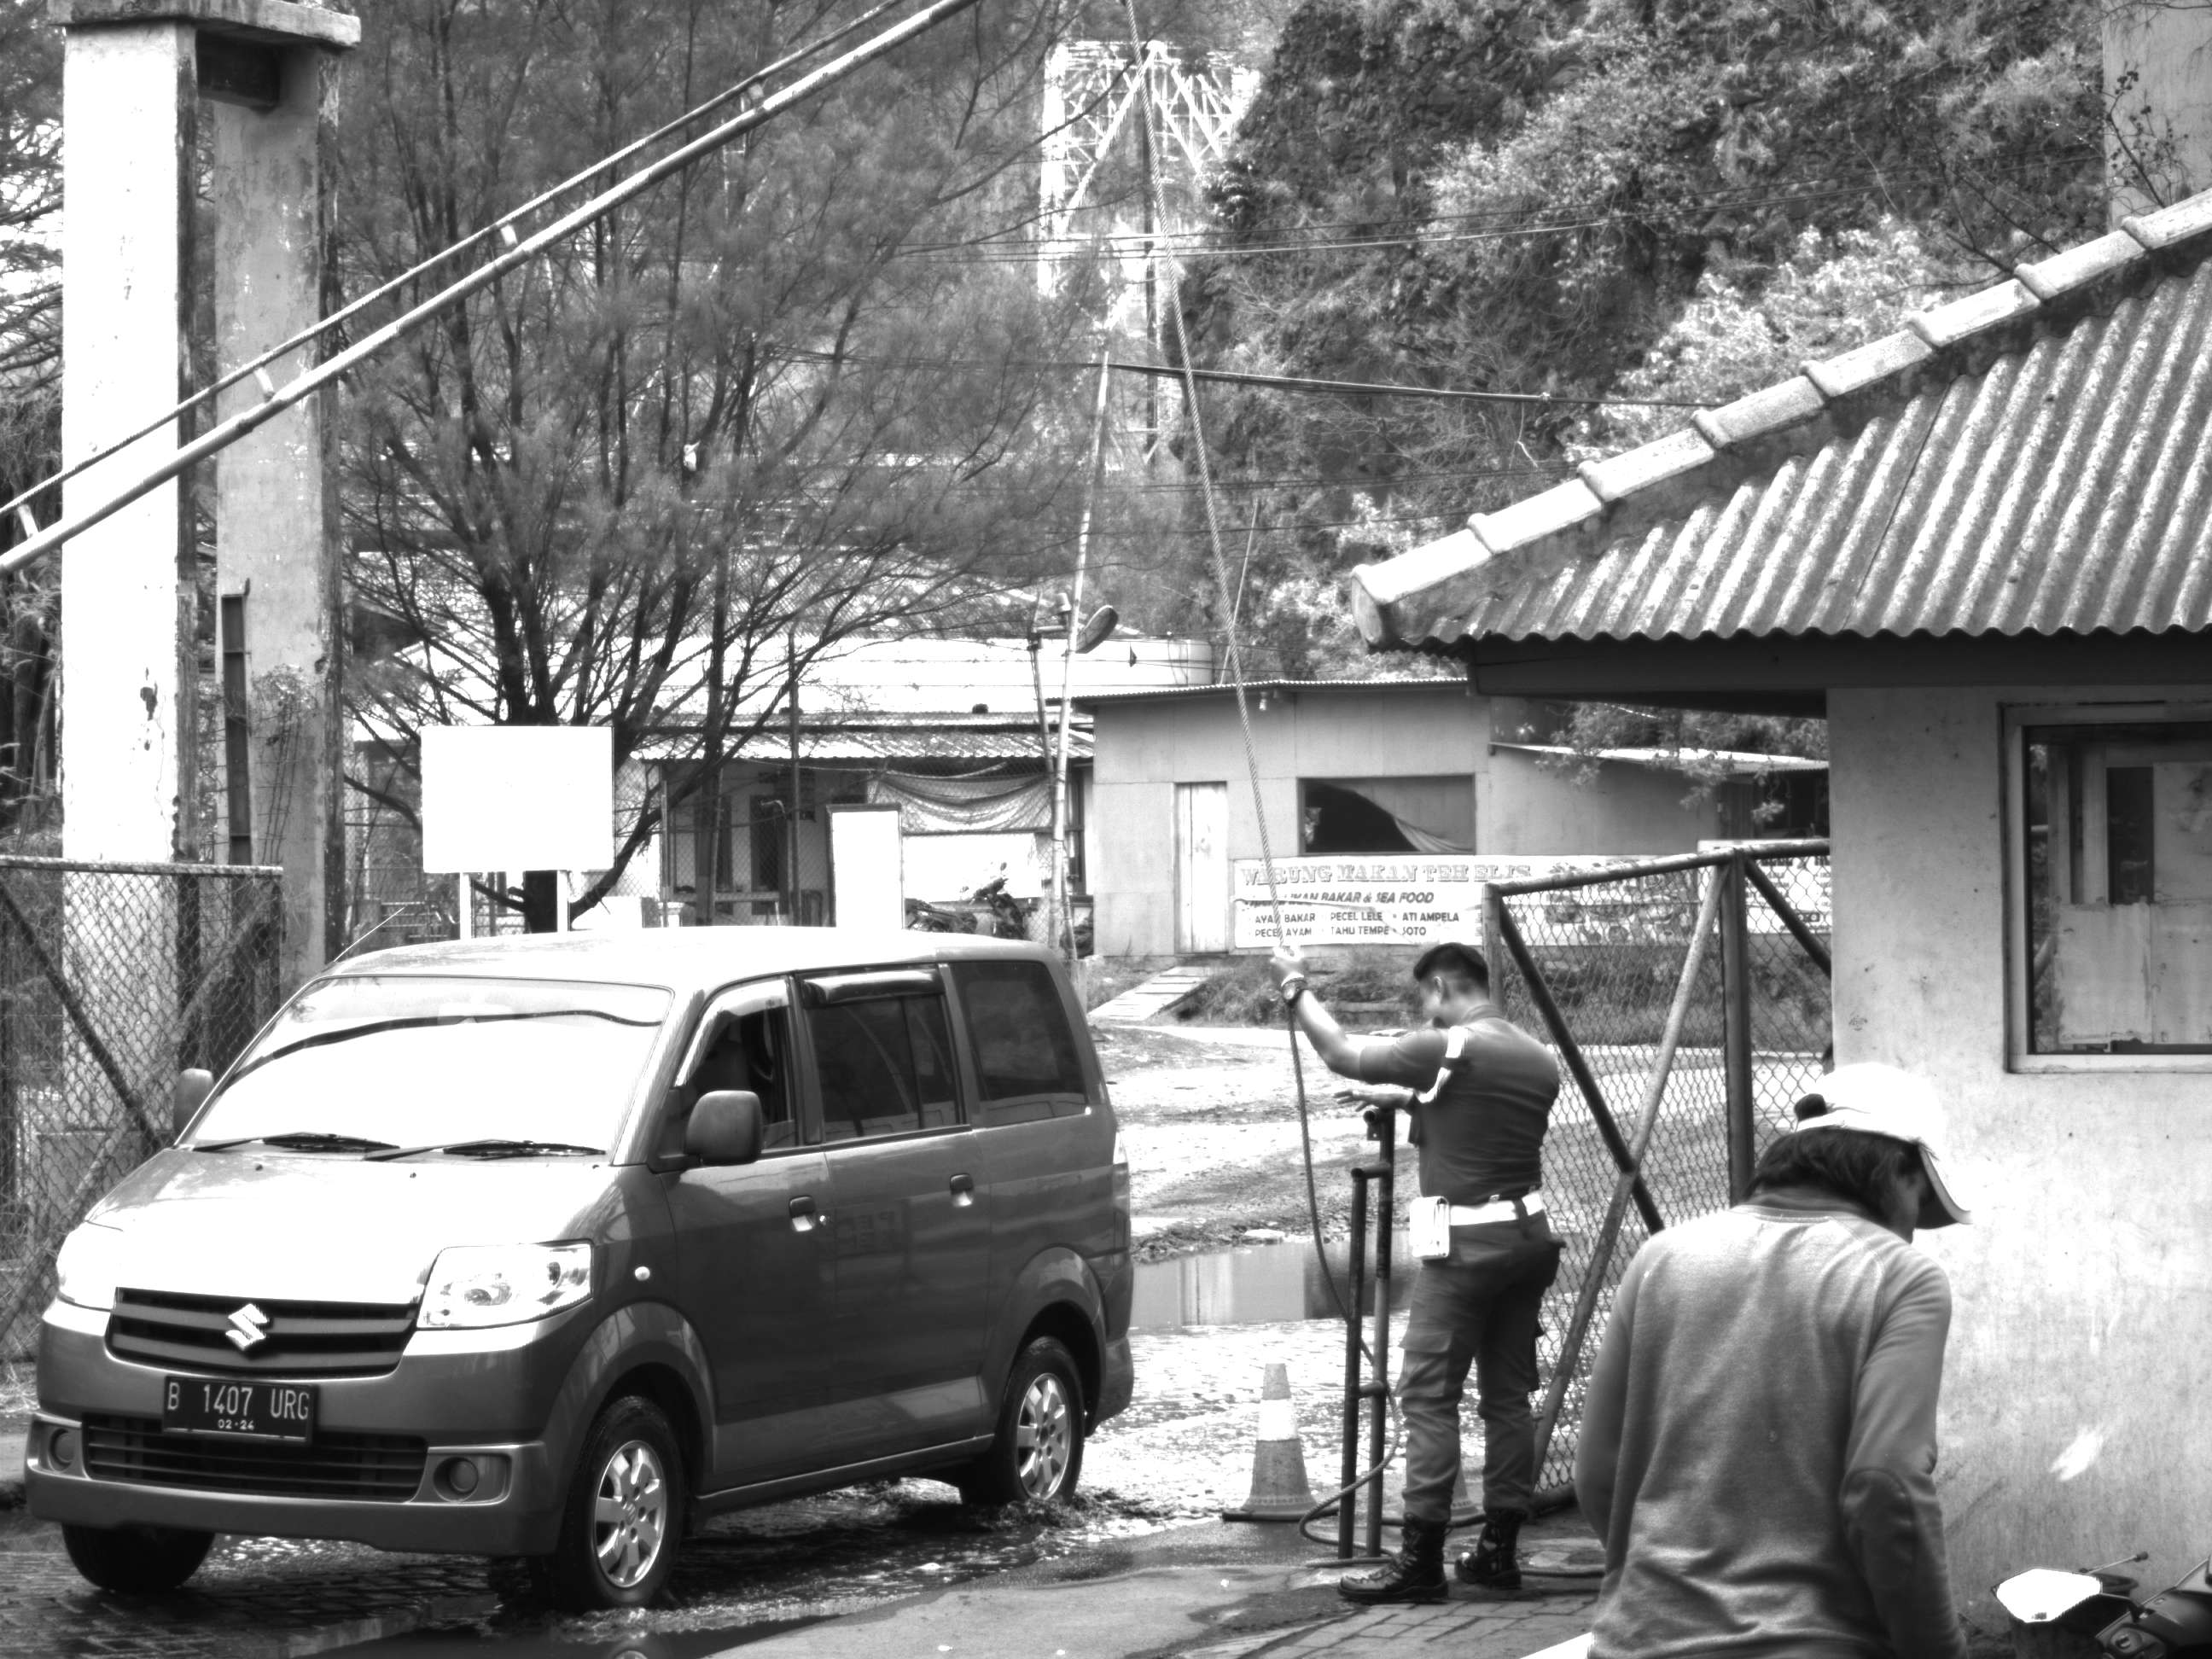day_small_front: (20, 927, 722, 1643)
plate: (159, 1367, 323, 1442)
